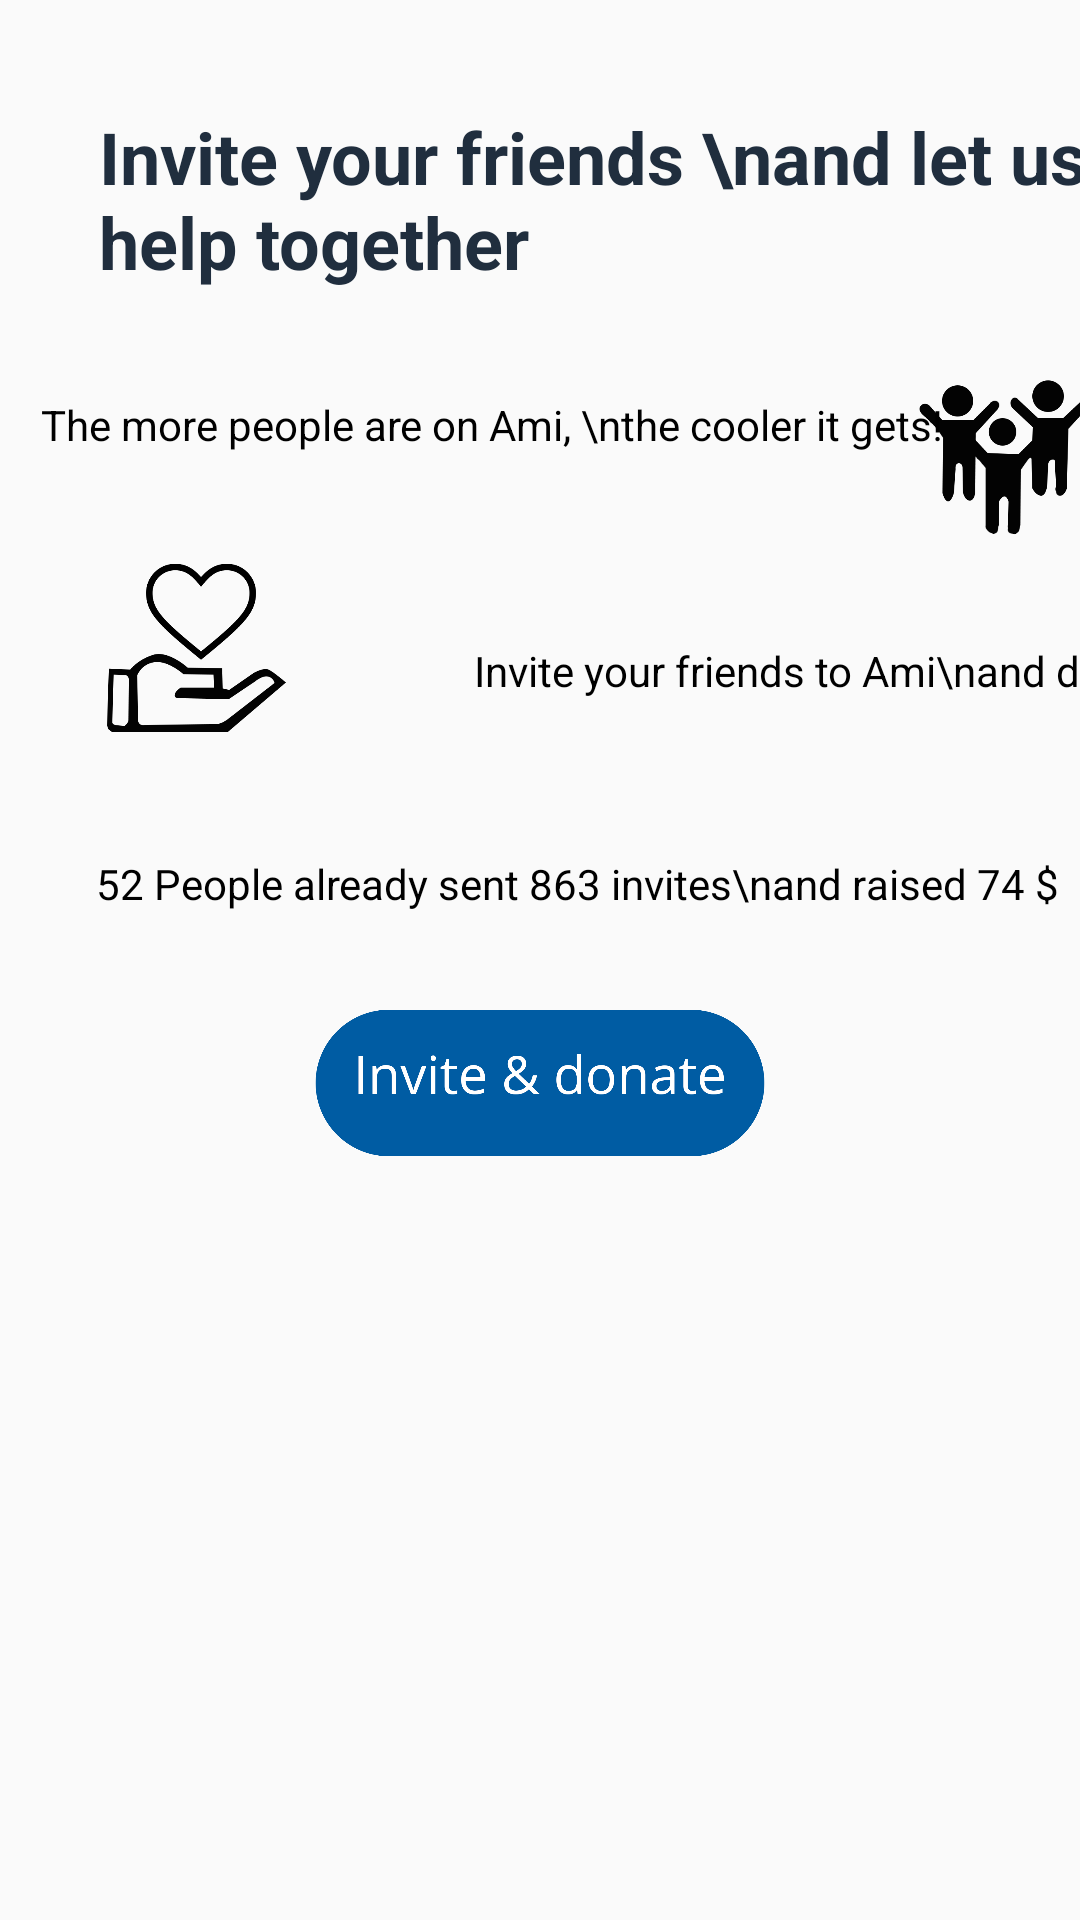

Where to tap for icons on this 1080×1920 app screen, as point (x, y):
donate: point (196, 648)
